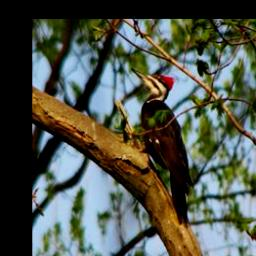Woodpecker: (127, 64, 195, 229)
